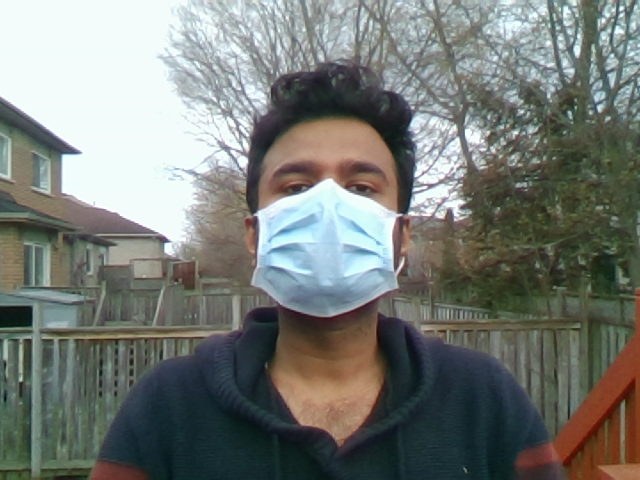Mask: (241, 175, 424, 317)
